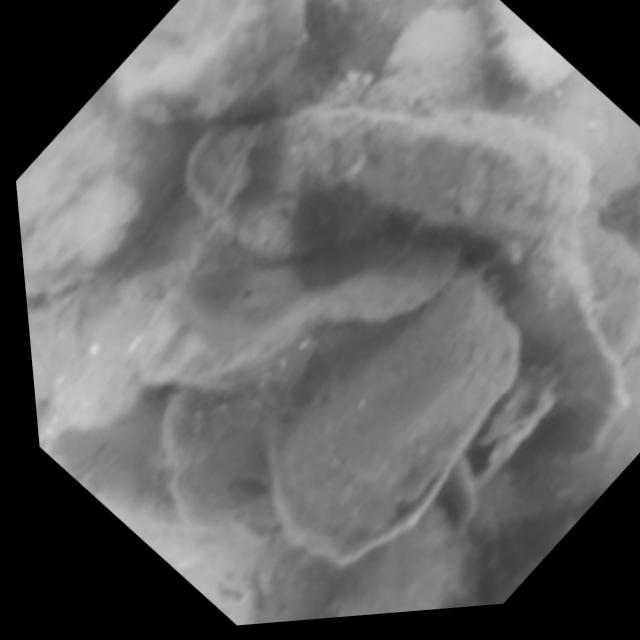Oyster-Closed: (16, 80, 191, 319)
Oyster-Indeterminate: (269, 260, 522, 566), (295, 106, 606, 256), (183, 104, 400, 261), (501, 228, 628, 474), (109, 0, 306, 110), (377, 5, 498, 111)
